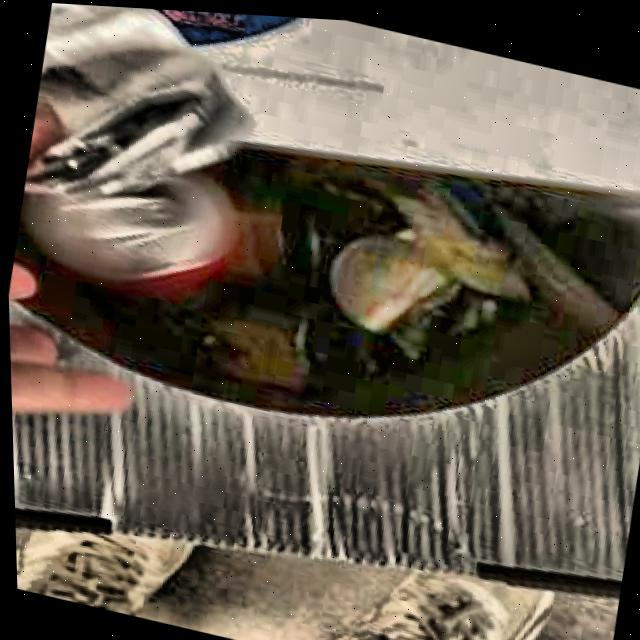paper: (22, 2, 239, 191), (24, 171, 235, 289)
